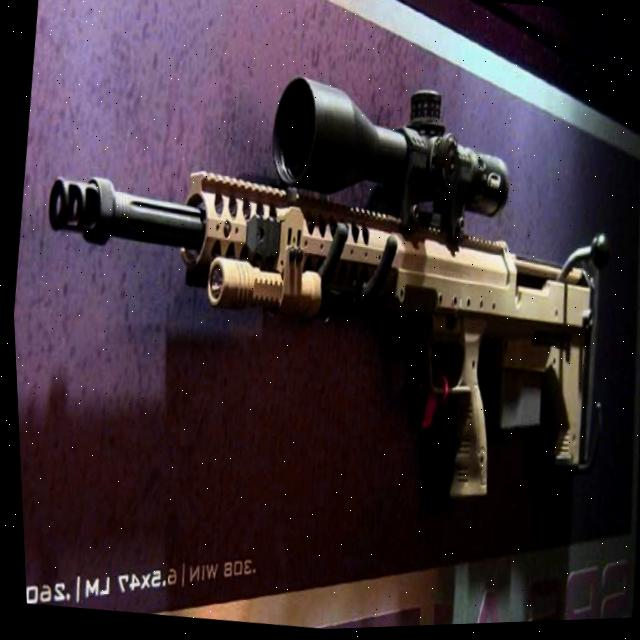firearm: (7, 35, 634, 530)
